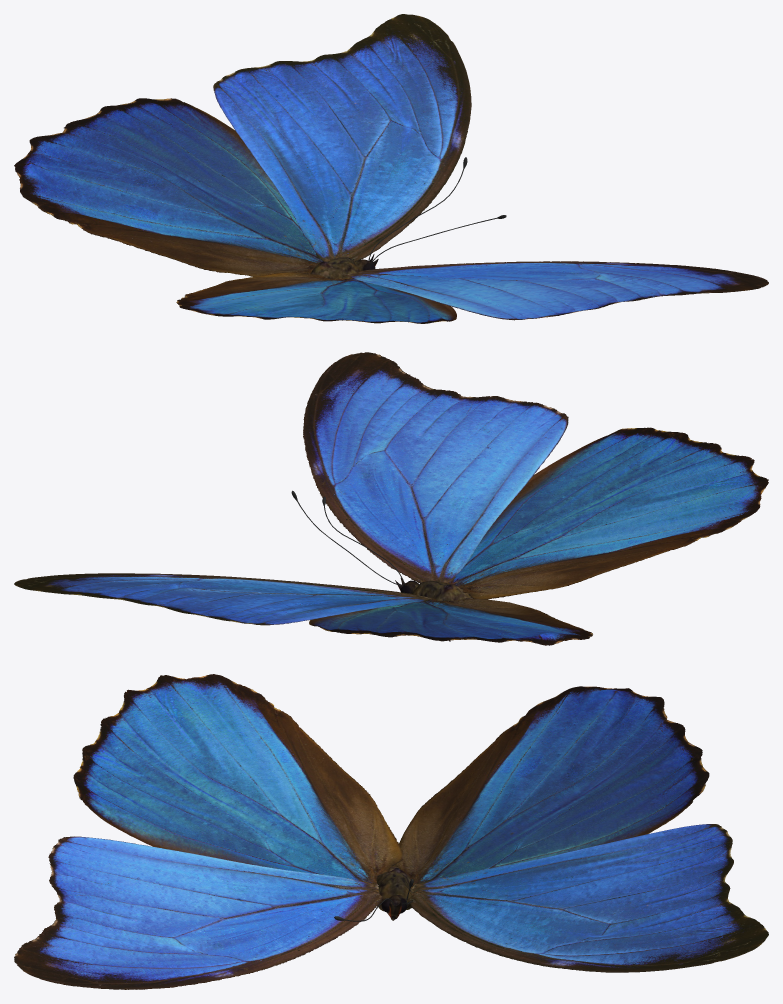
The model's file is BUTTERFLY.obj.
3 renders of one model, top to bottom at view 1: azimuth 30°, elevation 25°; view 2: azimuth 150°, elevation 25°; view 3: azimuth 270°, elevation 25°, orthographic. The views are drawn at different scales.
Visible parts, largest first — view 1: BUTTERFLY; view 2: BUTTERFLY; view 3: BUTTERFLY.
Part boxes in pixels (bbox=[...]): BUTTERFLY: bbox=[14, 14, 768, 323]; BUTTERFLY: bbox=[14, 352, 768, 645]; BUTTERFLY: bbox=[14, 674, 768, 989].
Size of the model in its own units: 19.61 by 4.34 by 23.45.
1 material, 1 textured.
